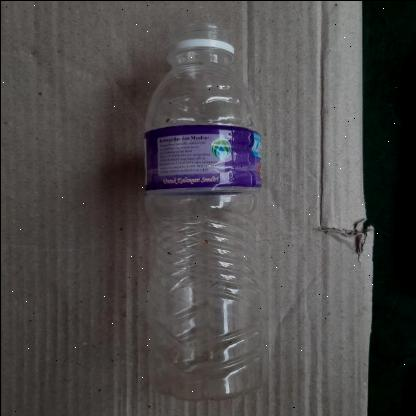Plastic Bottle: (140, 22, 268, 400)
